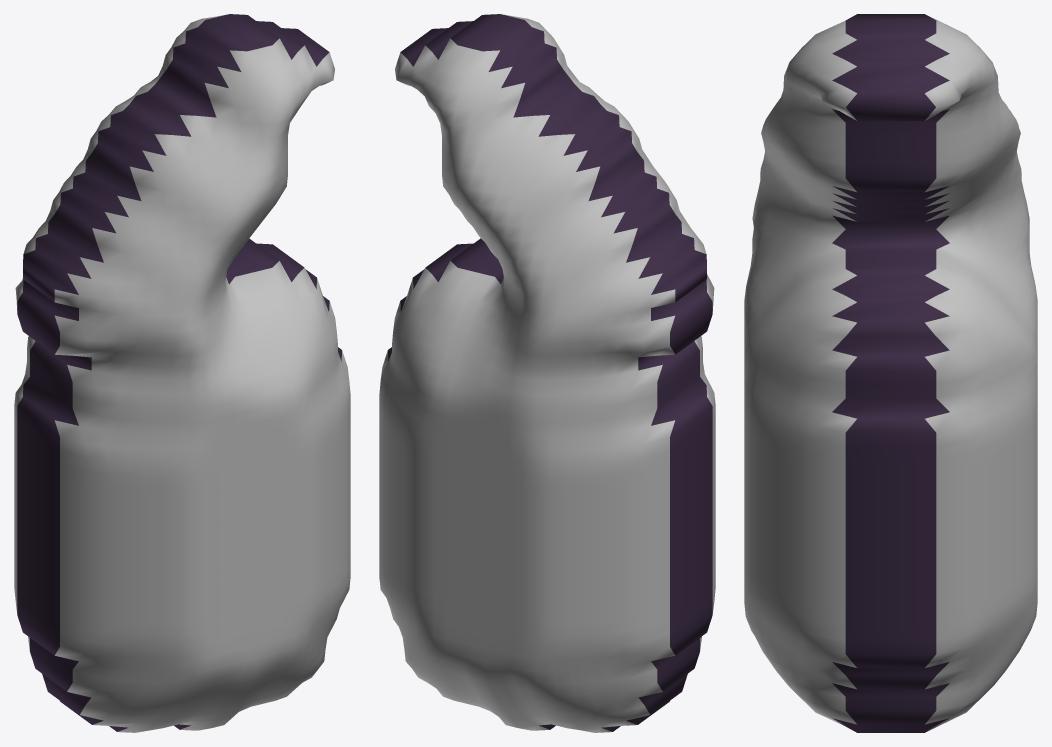
Rendered from crow_barrel.glb.
3 views of the same model, side by side, from view 1: azimuth 30°, elevation 25°; view 2: azimuth 150°, elevation 25°; view 3: azimuth 270°, elevation 25° (orthographic). The views are drawn at different scales.
Parts seen in each view (by area): view 1: crow_barrel; view 2: crow_barrel; view 3: crow_barrel.
Part boxes in pixels (x1,y1,x2,y2): crow_barrel: (14, 14, 350, 732); crow_barrel: (379, 14, 715, 732); crow_barrel: (744, 14, 1037, 732).
Bounding box in the file's own units: 0.3538 × 0.7846 × 0.295.
